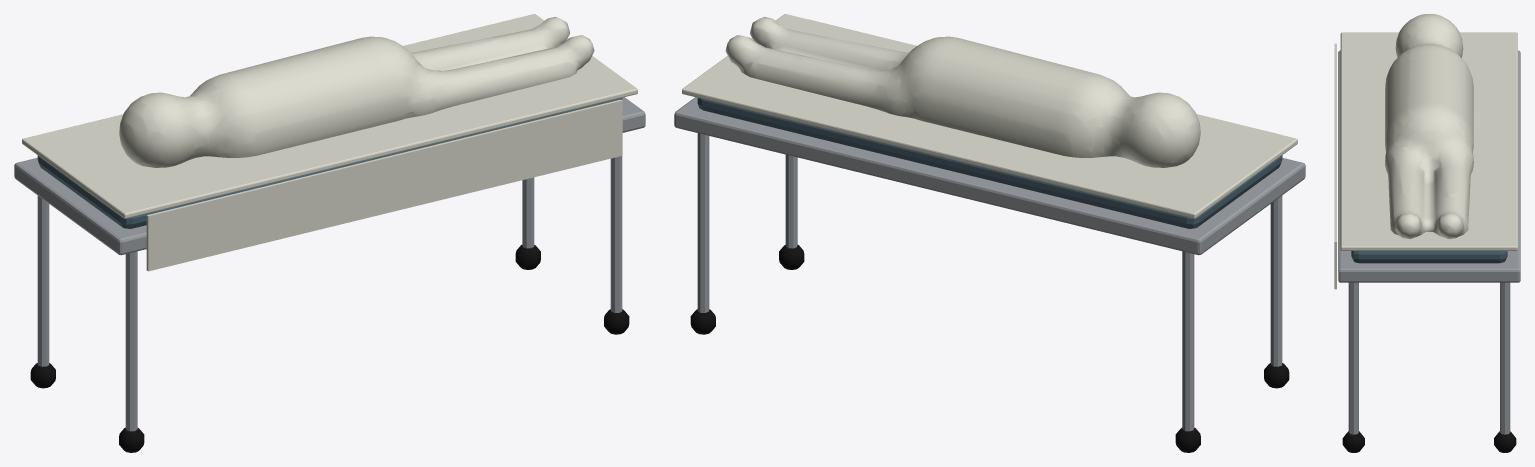
File: gurney.glb
3 renders of one model, left to right at view 1: azimuth 30°, elevation 25°; view 2: azimuth 150°, elevation 25°; view 3: azimuth 270°, elevation 25°, orthographic. The views are drawn at different scales.
Visible parts, largest first — view 1: gurney; view 2: gurney; view 3: gurney.
Boxes of the visible parts, x1,y1,x2,y2 form: gurney: (14, 14, 645, 452); gurney: (674, 14, 1305, 452); gurney: (1334, 14, 1520, 452).
Size of the model in its own units: 2 by 1.12 by 0.715.
